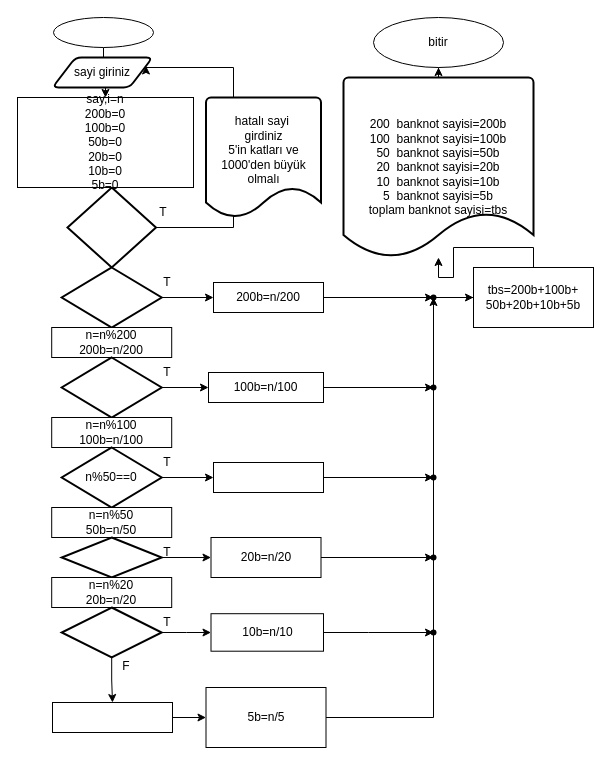
Image size: 611x765. Some labels were removed from this diagram. Here are the shapes that lost their labels. From the top down, the centre of each, then its label:
the point at 103,32: başla
the point at 111,227: n>=1000 && n%5=0
the point at 111,297: n%200==0
the point at 111,387: n%100==0
the point at 268,477: 50b=n/50
the point at 111,557: n%20==0
the point at 111,632: n%10==0
the point at 112,717: n=n%10 10b=n/10
